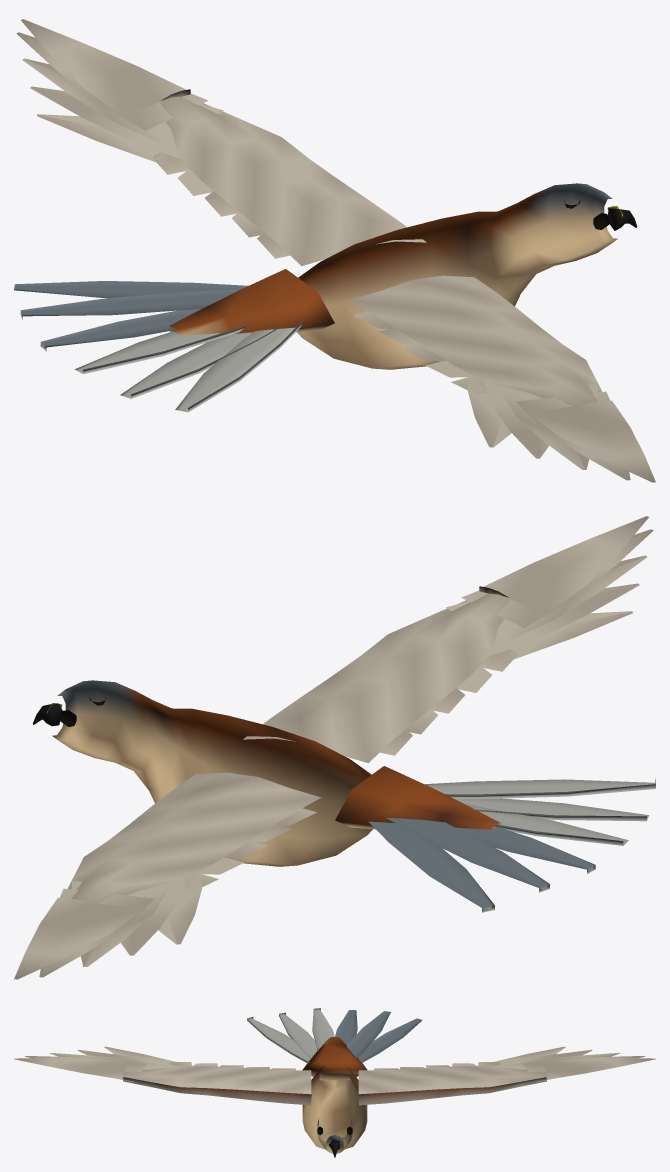
File: SM_Bird_kestrel_glide_LOD1.glb
3 renders of one model, top to bottom at view 1: azimuth 30°, elevation 25°; view 2: azimuth 150°, elevation 25°; view 3: azimuth 270°, elevation 25°, orthographic. The views are drawn at different scales.
Parts seen in each view (by area): view 1: SM_Bird_kestrel_glide_LOD1; view 2: SM_Bird_kestrel_glide_LOD1; view 3: SM_Bird_kestrel_glide_LOD1.
Part boxes in pixels (x1,y1,x2,y2): SM_Bird_kestrel_glide_LOD1: (14,19,655,482); SM_Bird_kestrel_glide_LOD1: (14,516,655,979); SM_Bird_kestrel_glide_LOD1: (14,1008,655,1157).
Size of the model in its own units: 0.3785 by 0.089 by 0.7191.
